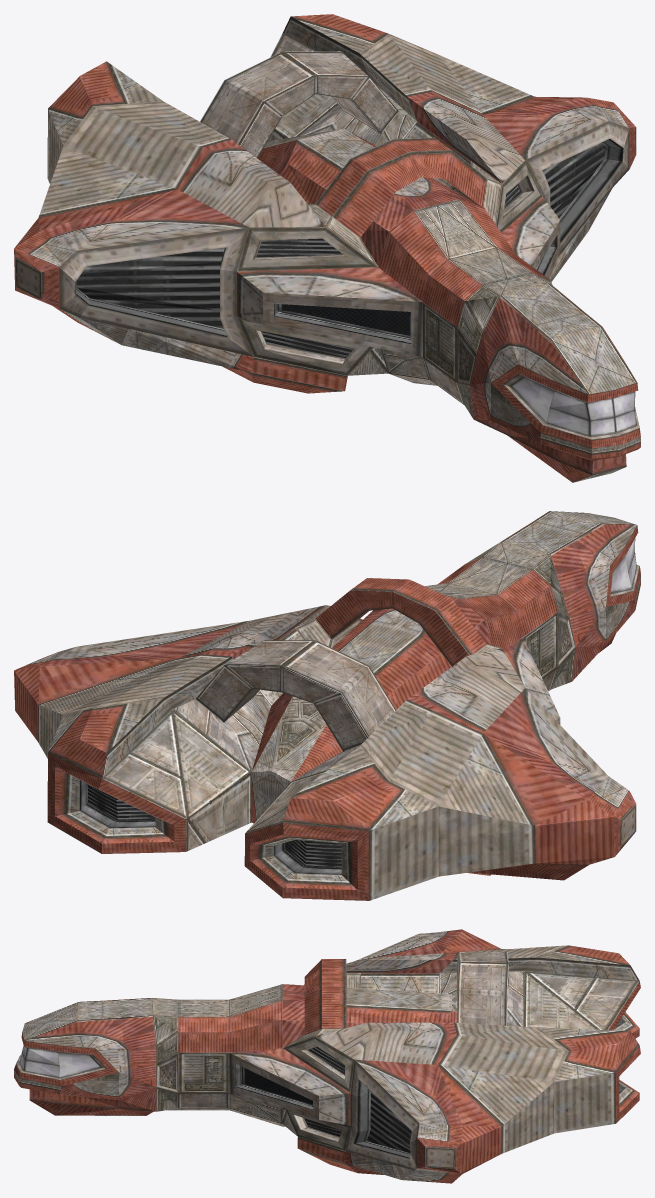
Rendered from pirate gb.obj.
3 renders of one model, top to bottom at view 1: azimuth 30°, elevation 25°; view 2: azimuth 150°, elevation 25°; view 3: azimuth 270°, elevation 25°, orthographic. The views are drawn at different scales.
Parts seen in each view (by area): view 1: polySurface34_polySurface34_pirate_hull4, polySurface34_polySurface34_p2_material, polySurface34_polySurface34_SL_Equip_gen, polySurface34_polySurface34_windows_p; view 2: polySurface34_polySurface34_pirate_hull4, polySurface34_polySurface34_p2_material, polySurface34_polySurface34_SL_Equip_gen, polySurface34_polySurface34_windows_p; view 3: polySurface34_polySurface34_pirate_hull4, polySurface34_polySurface34_p2_material, polySurface34_polySurface34_SL_Equip_gen, polySurface34_polySurface34_windows_p.
Part boxes in pixels (box(x1,y1,x2,y2)): polySurface34_polySurface34_pirate_hull4: box(14, 14, 640, 482); polySurface34_polySurface34_p2_material: box(200, 33, 560, 404); polySurface34_polySurface34_SL_Equip_gen: box(75, 139, 623, 357); polySurface34_polySurface34_windows_p: box(511, 377, 636, 436); polySurface34_polySurface34_pirate_hull4: box(14, 511, 640, 900); polySurface34_polySurface34_p2_material: box(102, 542, 557, 851); polySurface34_polySurface34_SL_Equip_gen: box(79, 780, 341, 874); polySurface34_polySurface34_windows_p: box(554, 536, 636, 593); polySurface34_polySurface34_pirate_hull4: box(14, 929, 640, 1183); polySurface34_polySurface34_p2_material: box(152, 952, 639, 1135); polySurface34_polySurface34_SL_Equip_gen: box(235, 1017, 625, 1158); polySurface34_polySurface34_windows_p: box(20, 1045, 100, 1077).
Size of the model in its own units: 53.65 by 19.52 by 65.82.
4 materials, 4 textured.
